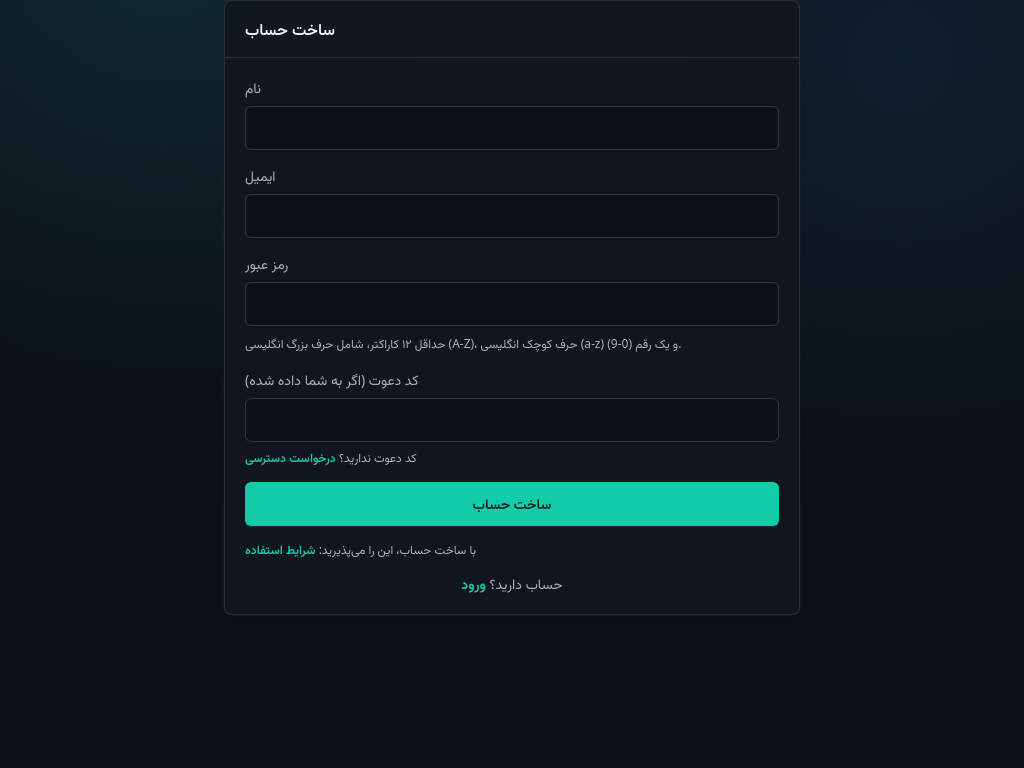
Test case: AuthPanel shows localized messages for API error codes › register: EMAIL_ALREADY_EXISTS becomes a Persian message, not the server's English text
This screenshot has width=1024, height=768.
Type "Sara Trader" into the field labelled "نام".
click(512, 128); type("Sara Trader")  # box [245,106,779,150]
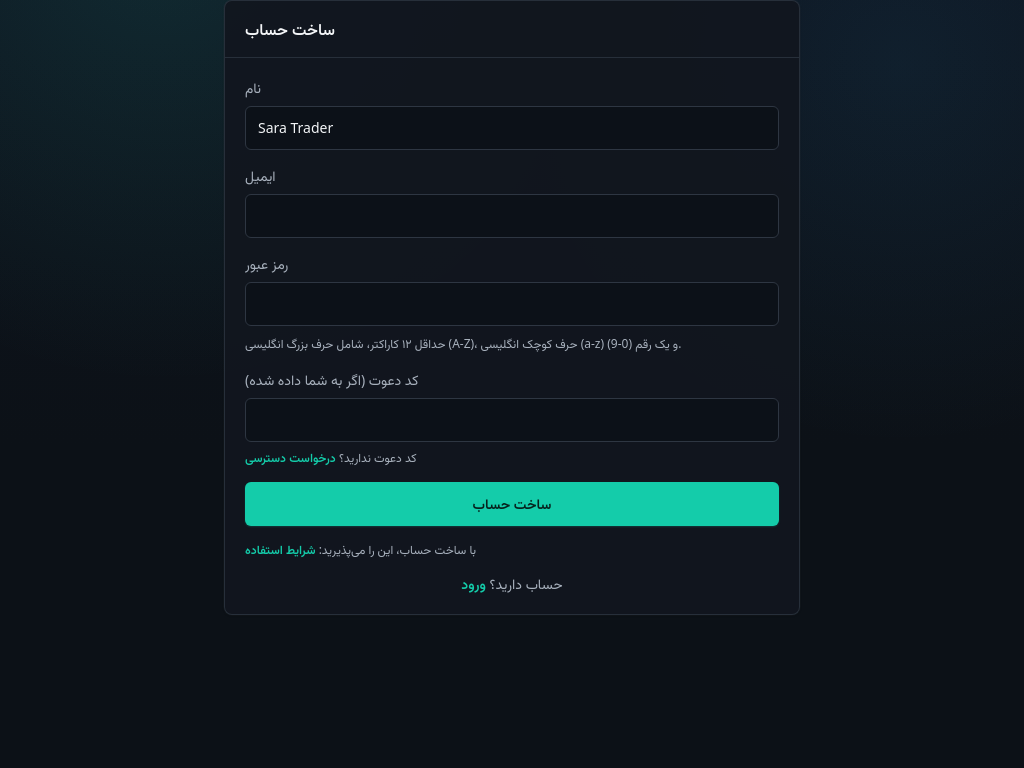
Type "sara@example.com" into the field labelled "ایمیل".
click(512, 216); type("sara@example.com")  # box [245,194,779,238]
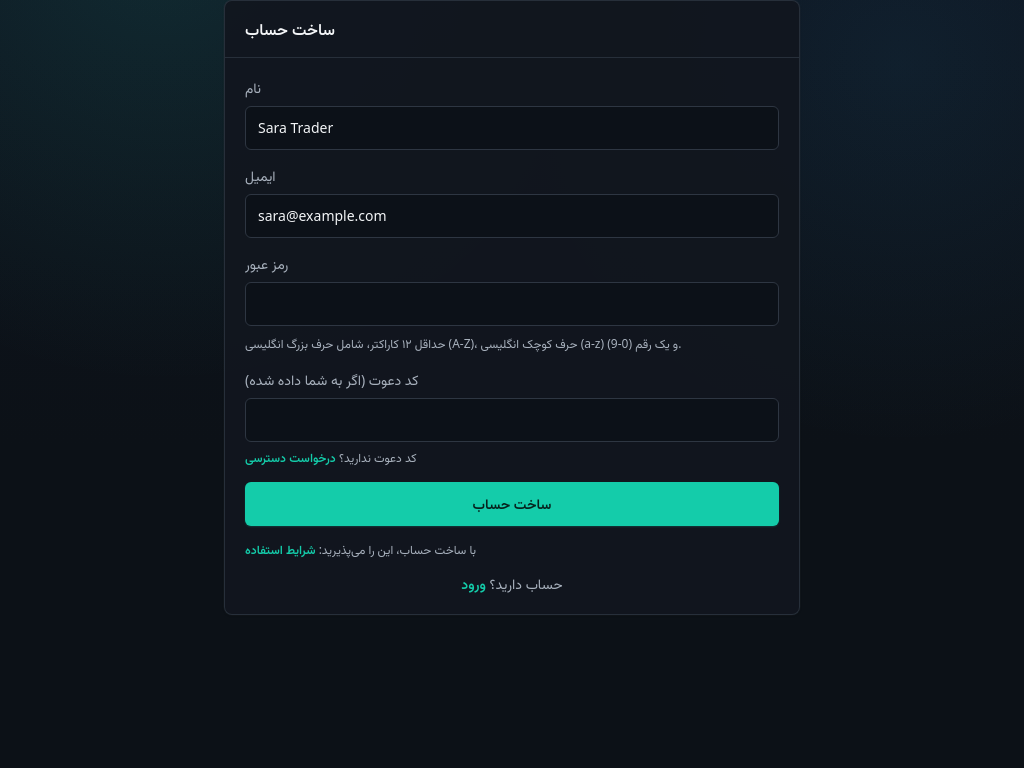
Type "Password1abc" into the password field labelled "رمز عبور".
click(512, 304); type("Password1abc")  # box [245,282,779,326]
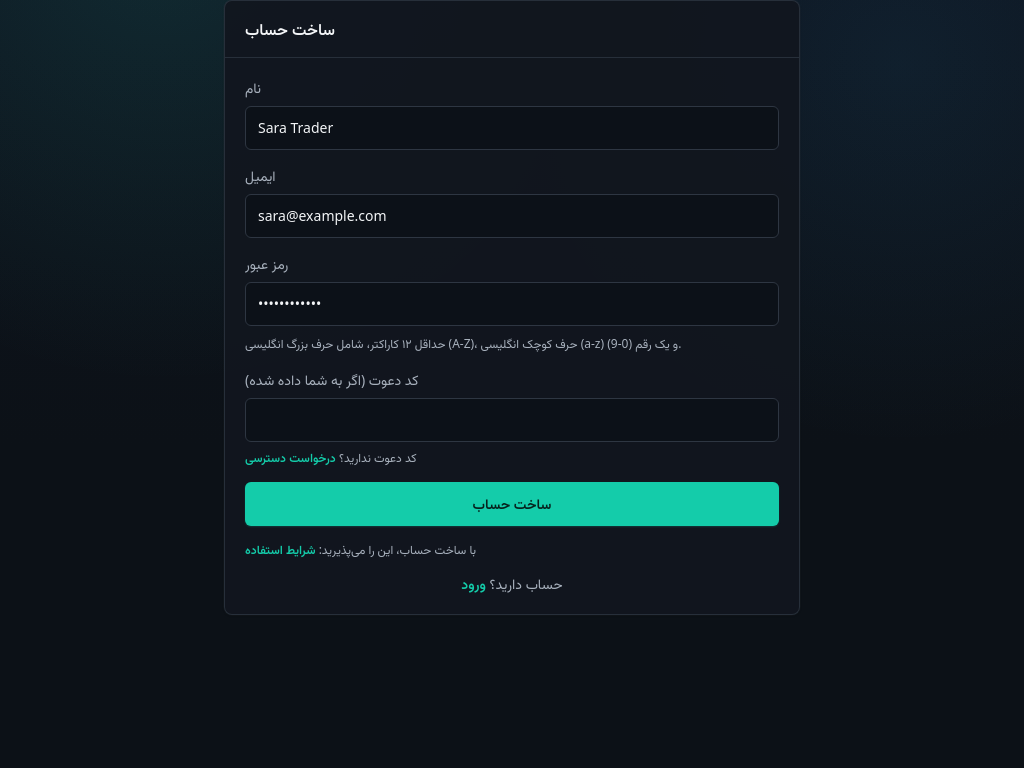
Click the button "ساخت حساب".
click(512, 504)  # box [245,482,779,526]
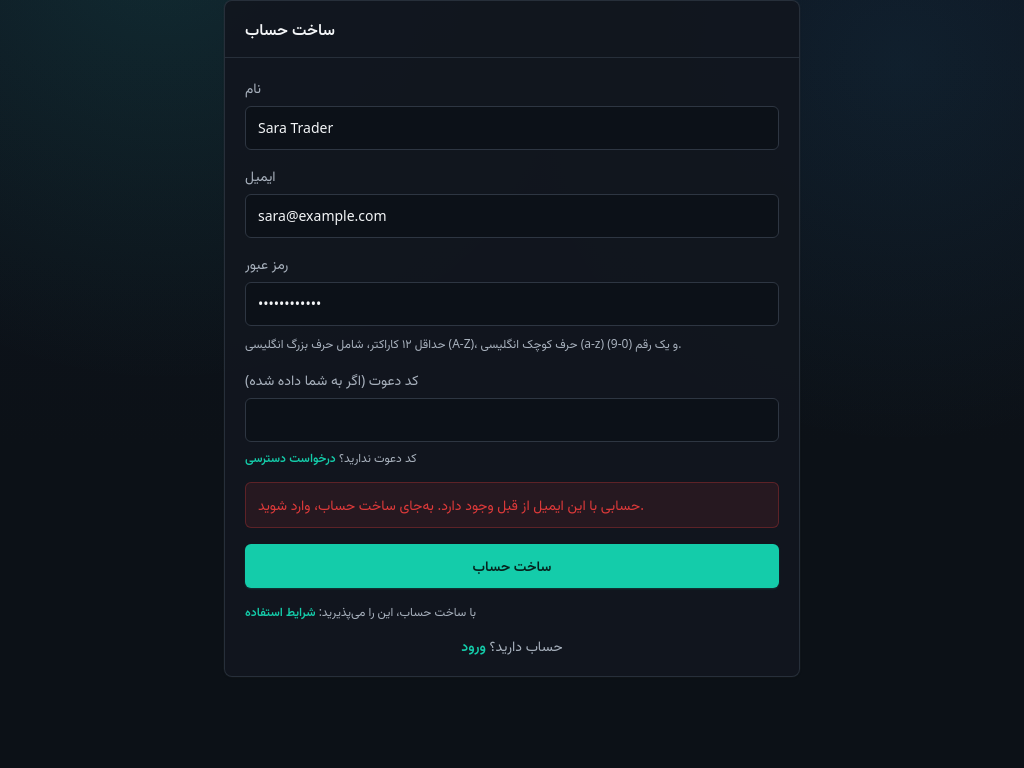
Expected: the message reads "حسابی با این ایمیل از قبل وجود دارد. به‌جای ساخت حساب، وارد شوید.", [258,495,644,514]
